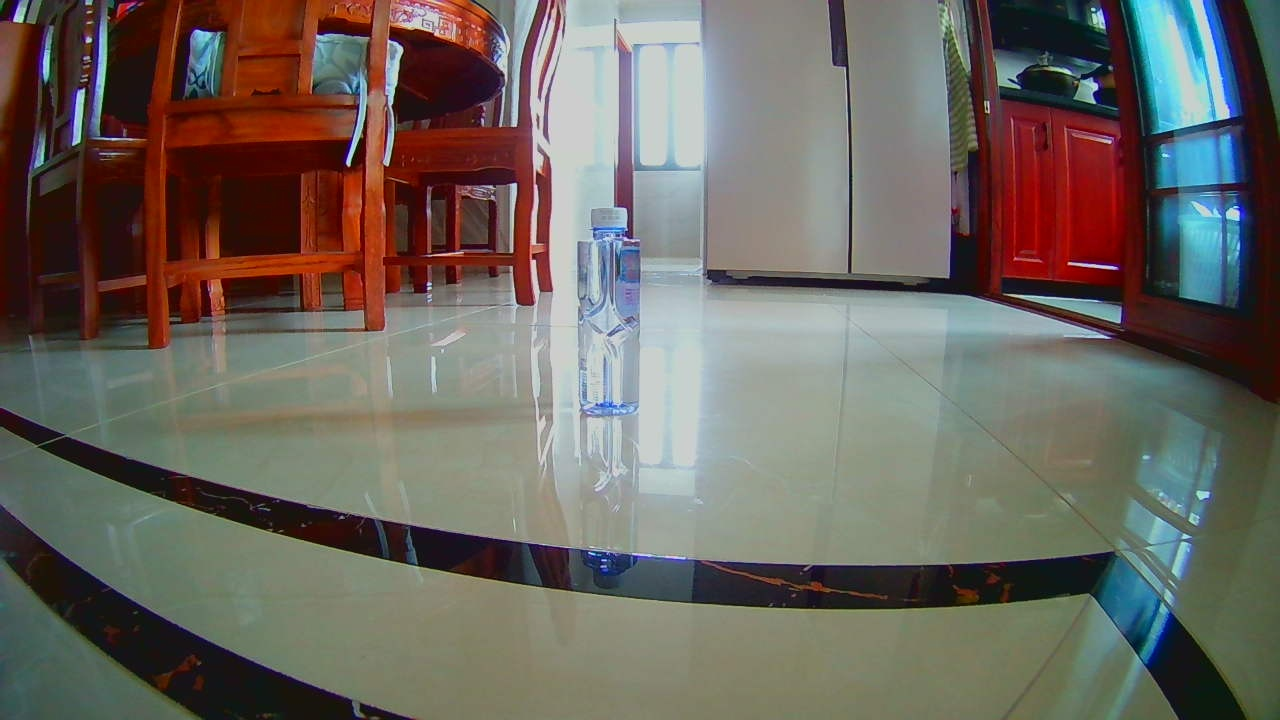water: (573, 203, 638, 412)
